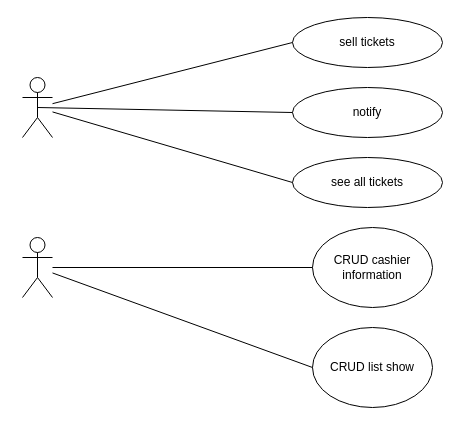
The diagram is 460 pixels wide and 425 high, and some of its shapes have lost their labels. The shapes that lost their labels are listed below. From the top down, each one's centre as x and y in pixels, then its label:
At pixel 37 107: "Cashier".
At pixel 37 267: "Admin".
